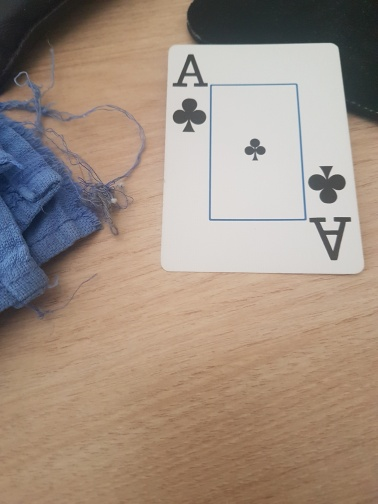ace: (160, 42, 366, 275)
